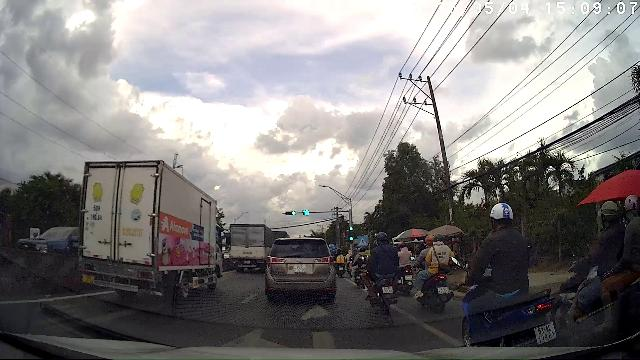423a-duong-nguoi-di-bo-sang-ngang-1: (358, 236, 367, 246)
